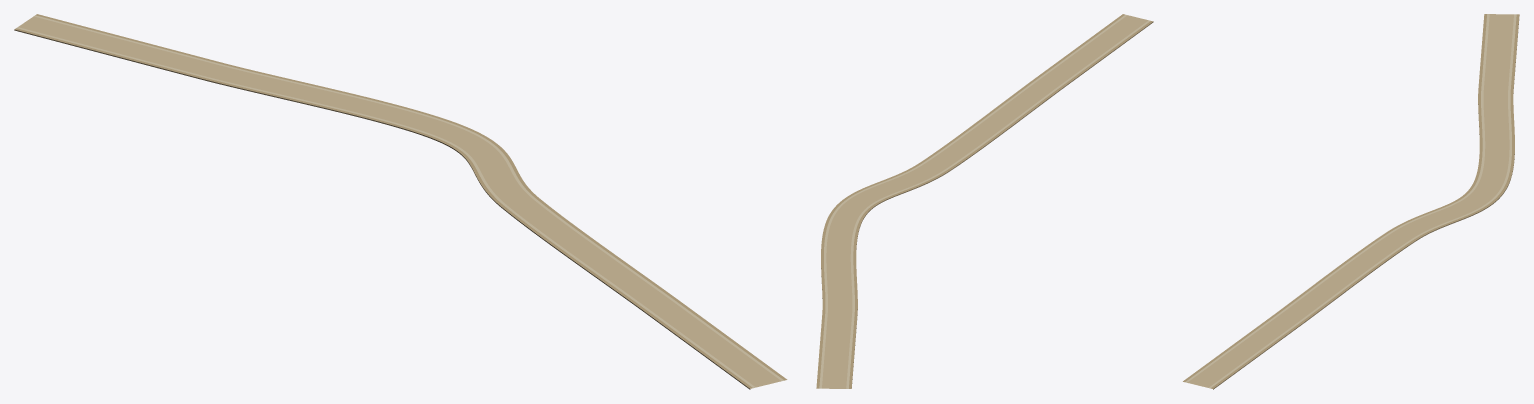
File: road_roam_to_stage_mesa_run.glb
3 views of the same model, side by side, from view 1: azimuth 30°, elevation 25°; view 2: azimuth 150°, elevation 25°; view 3: azimuth 330°, elevation 25° (orthographic). The views are drawn at different scales.
Parts seen in each view (by area): view 1: road; view 2: road; view 3: road.
Part boxes in pixels (bbox=[...]): road: bbox=[14, 14, 787, 389]; road: bbox=[816, 14, 1153, 388]; road: bbox=[1183, 14, 1519, 389].
Size of the model in its own units: 78.74 by 0.32 by 313.
